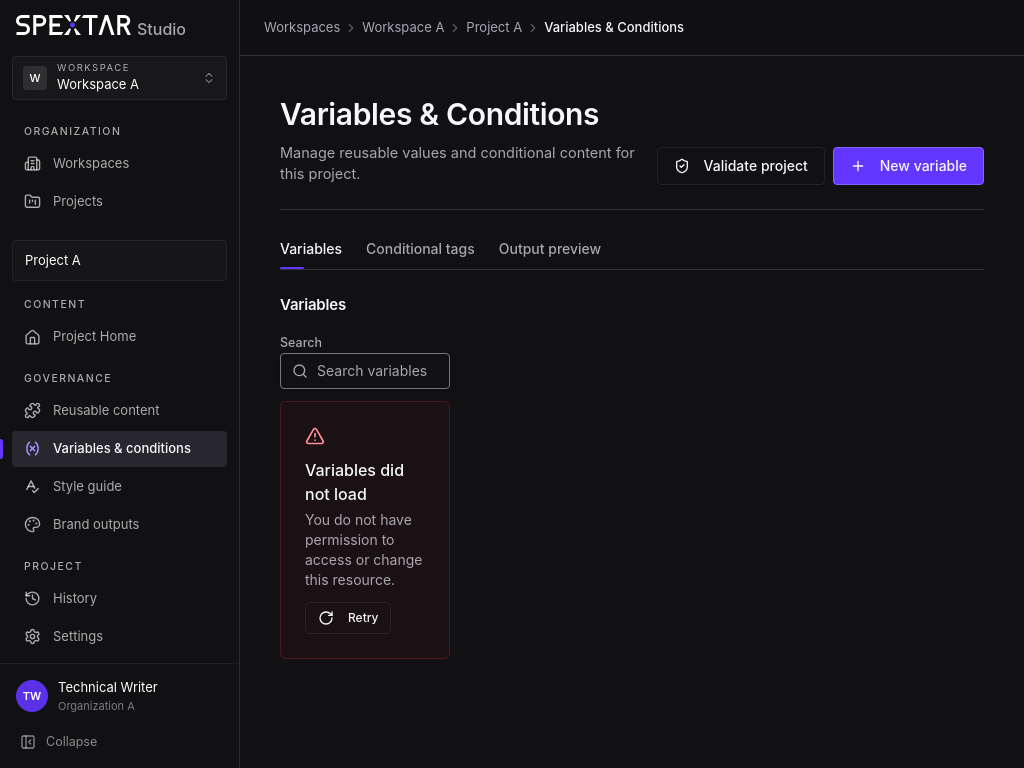
it: Variables & Conditions project route › permits explicit retry after a backend data error
This screenshot has width=1024, height=768.
Expected: the text "Variables did not load" is shown, [305,460,404,504]
Click the button "Retry": click(348, 618) [305,602,392,634]
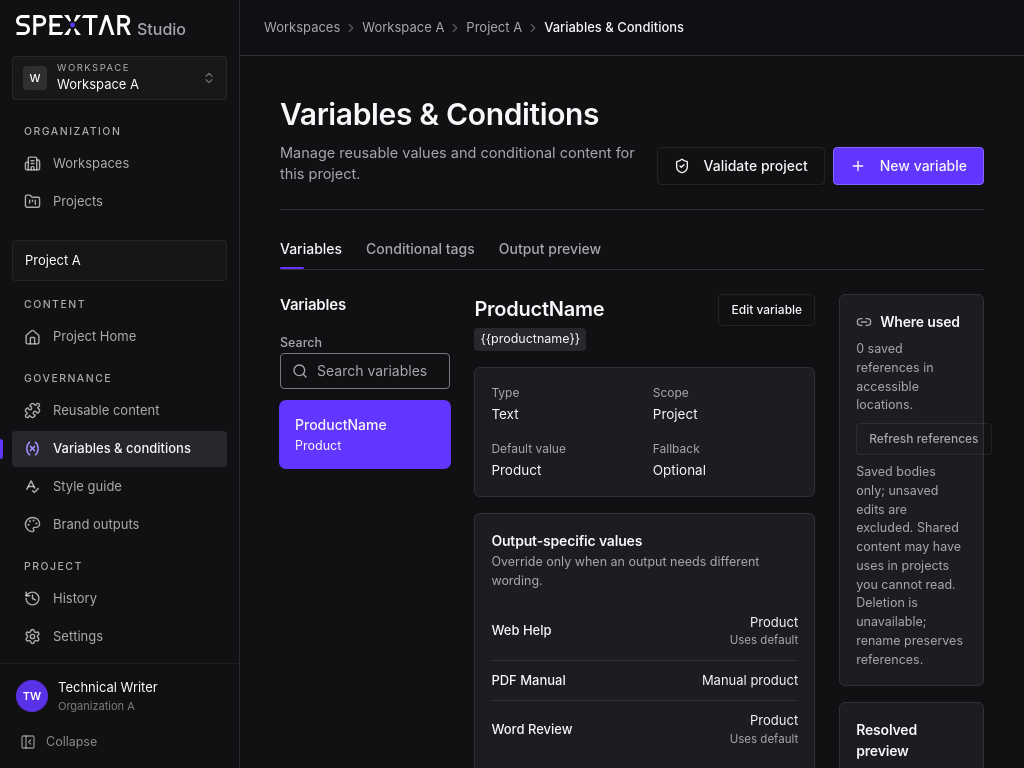
Now the text with test id "text-variable-default" reads "Product", box [491,462,541,478]
